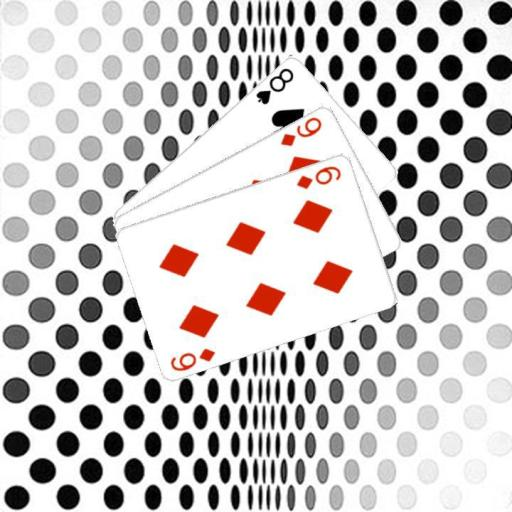6D: (167, 344, 217, 373), (294, 162, 343, 191)
8S: (253, 64, 295, 106)
9D: (278, 113, 324, 148)
